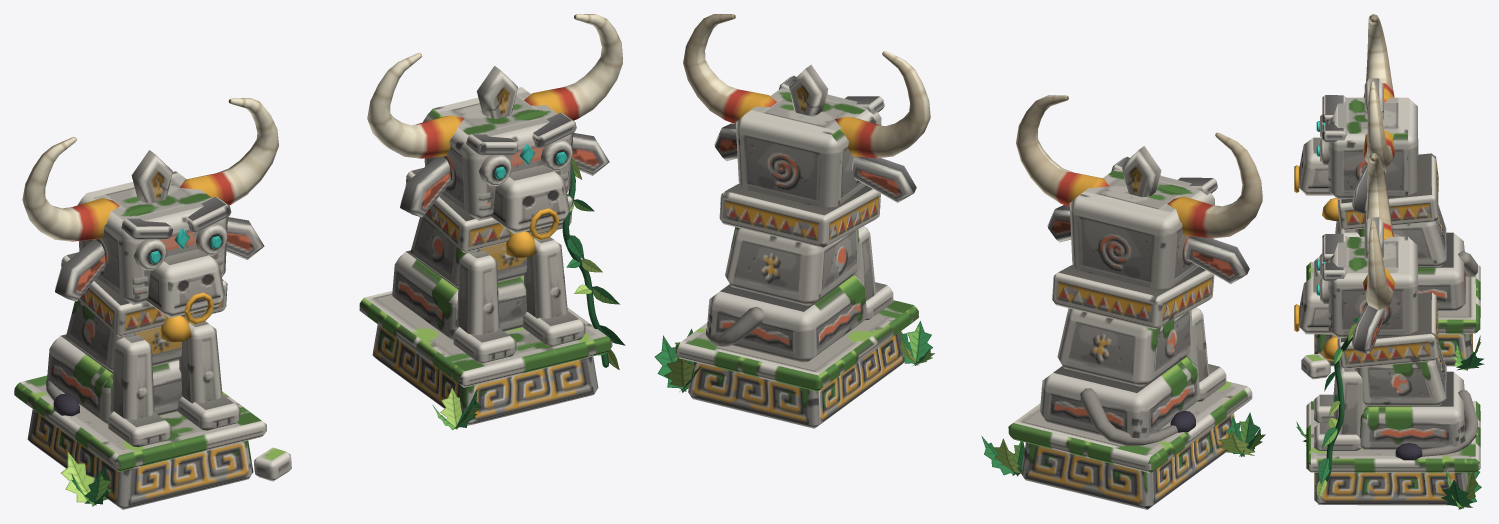
The model's file is gate_guardians.glb.
3 renders of one model, left to right at view 1: azimuth 30°, elevation 25°; view 2: azimuth 150°, elevation 25°; view 3: azimuth 270°, elevation 25°, orthographic. The views are drawn at different scales.
Visible parts, largest first — view 1: 0000_add, 0027_add, 0001_add, 0028_add, 0038_add, 0011_add, 0002_add, 0029_add, 0048_add, 0016_add, 0039_add, 0012_add (+32 smaller); view 2: 0011_add, 0038_add, 0002_add, 0000_add, 0029_add, 0027_add, 0030_add, 0003_add, 0001_add, 0028_add, 0035_add, 0008_add (+13 smaller); view 3: 0011_add, 0038_add, 0002_add, 0000_add, 0001_add, 0003_add, 0008_add, 0035_add, 0029_add, 0030_add, 0028_add, 0021_add (+27 smaller).
Boxes of the visible parts, x1=… form: 0000_add: x1=372, y1=324, x2=598, y2=425; 0027_add: x1=27, y1=409, x2=253, y2=509; 0001_add: x1=359, y1=291, x2=612, y2=387; 0028_add: x1=14, y1=375, x2=266, y2=471; 0038_add: x1=78, y1=171, x2=227, y2=304; 0011_add: x1=423, y1=87, x2=573, y2=220; 0002_add: x1=392, y1=250, x2=526, y2=340; 0029_add: x1=47, y1=334, x2=182, y2=424; 0048_add: x1=22, y1=137, x2=119, y2=241; 0016_add: x1=367, y1=53, x2=463, y2=158; 0039_add: x1=145, y1=249, x2=224, y2=318; 0012_add: x1=490, y1=165, x2=569, y2=233; 0011_add: x1=735, y1=88, x2=881, y2=208; 0038_add: x1=1069, y1=169, x2=1214, y2=289; 0002_add: x1=707, y1=274, x2=867, y2=362; 0000_add: x1=688, y1=331, x2=904, y2=428; 0029_add: x1=1040, y1=356, x2=1200, y2=438; 0027_add: x1=1021, y1=413, x2=1235, y2=509; 0030_add: x1=1057, y1=308, x2=1192, y2=386; 0003_add: x1=725, y1=227, x2=860, y2=305; 0001_add: x1=675, y1=300, x2=918, y2=391; 0028_add: x1=1008, y1=381, x2=1252, y2=473; 0035_add: x1=1052, y1=264, x2=1214, y2=329; 0008_add: x1=719, y1=183, x2=880, y2=247; 0011_add: x1=1328, y1=236, x2=1418, y2=338; 0038_add: x1=1328, y1=97, x2=1418, y2=199; 0002_add: x1=1360, y1=371, x2=1465, y2=449; 0000_add: x1=1314, y1=472, x2=1470, y2=505; 0001_add: x1=1306, y1=401, x2=1480, y2=472; 0003_add: x1=1354, y1=344, x2=1446, y2=405; 0008_add: x1=1337, y1=292, x2=1438, y2=369; 0035_add: x1=1337, y1=153, x2=1438, y2=230; 0029_add: x1=1418, y1=232, x2=1465, y2=310; 0030_add: x1=1354, y1=204, x2=1446, y2=266; 0028_add: x1=1306, y1=262, x2=1480, y2=333; 0021_add: x1=1363, y1=220, x2=1395, y2=310.
Size of the model in its own units: 11.8 by 6.66 by 3.94.
Materials: 1 (1 with a texture image).
